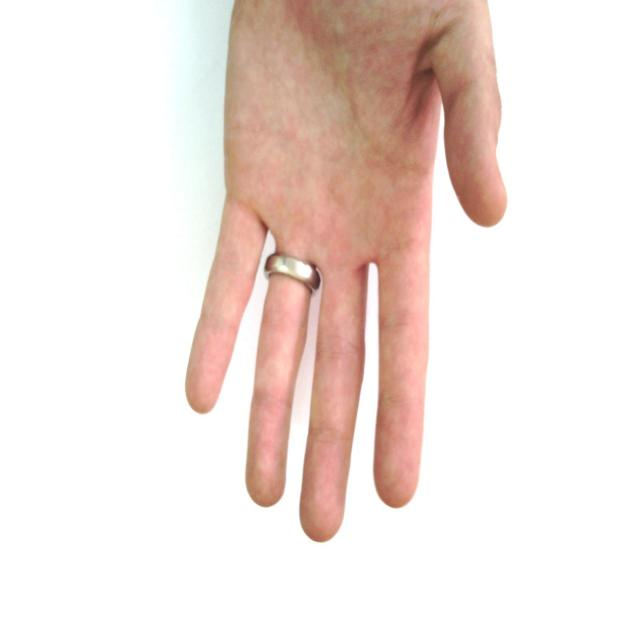others: (163, 0, 542, 549)
